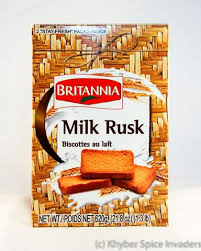Britania-toast-med: (36, 24, 168, 227)
